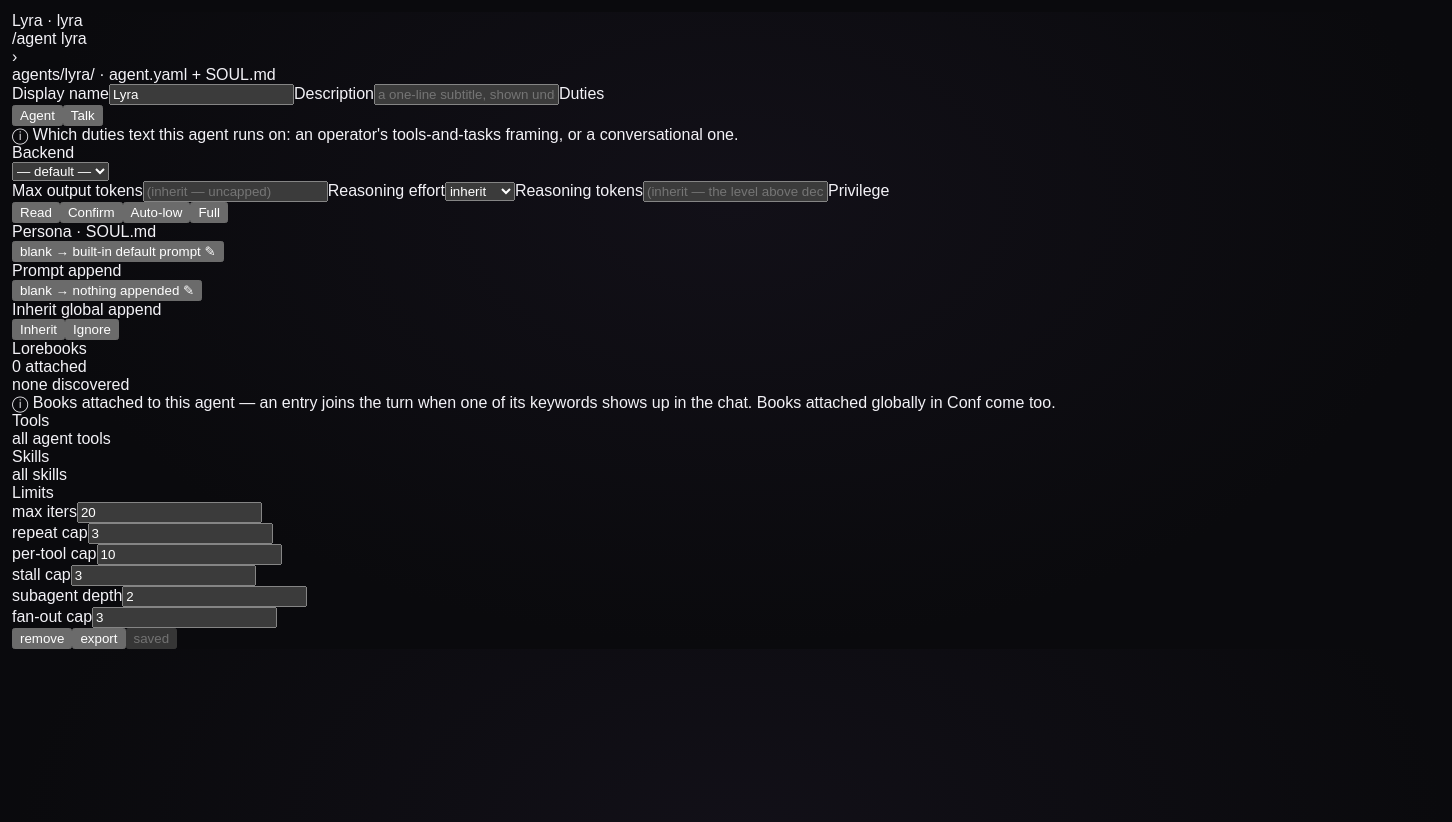
Test case: AgentRow · the card export (§15.3) › a SAVED agent offers `export`, which opens in place onto PNG card / JSON card
Click the button "export". click: (99, 638)
box: [72,628,126,649]
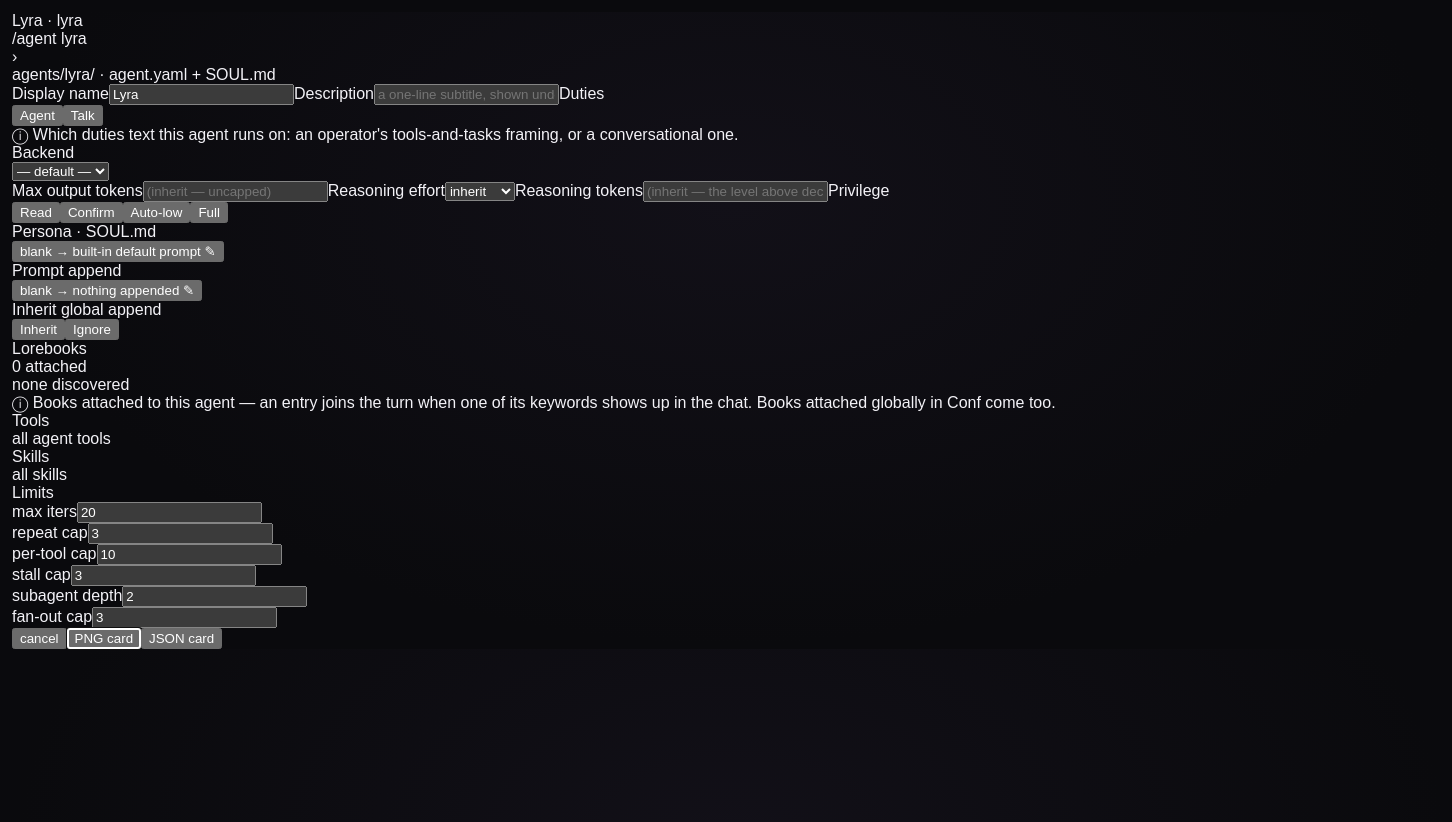
Result: the button "remove" is gone
Click the button "cancel". click: (39, 638)
box: [12,628,66,649]
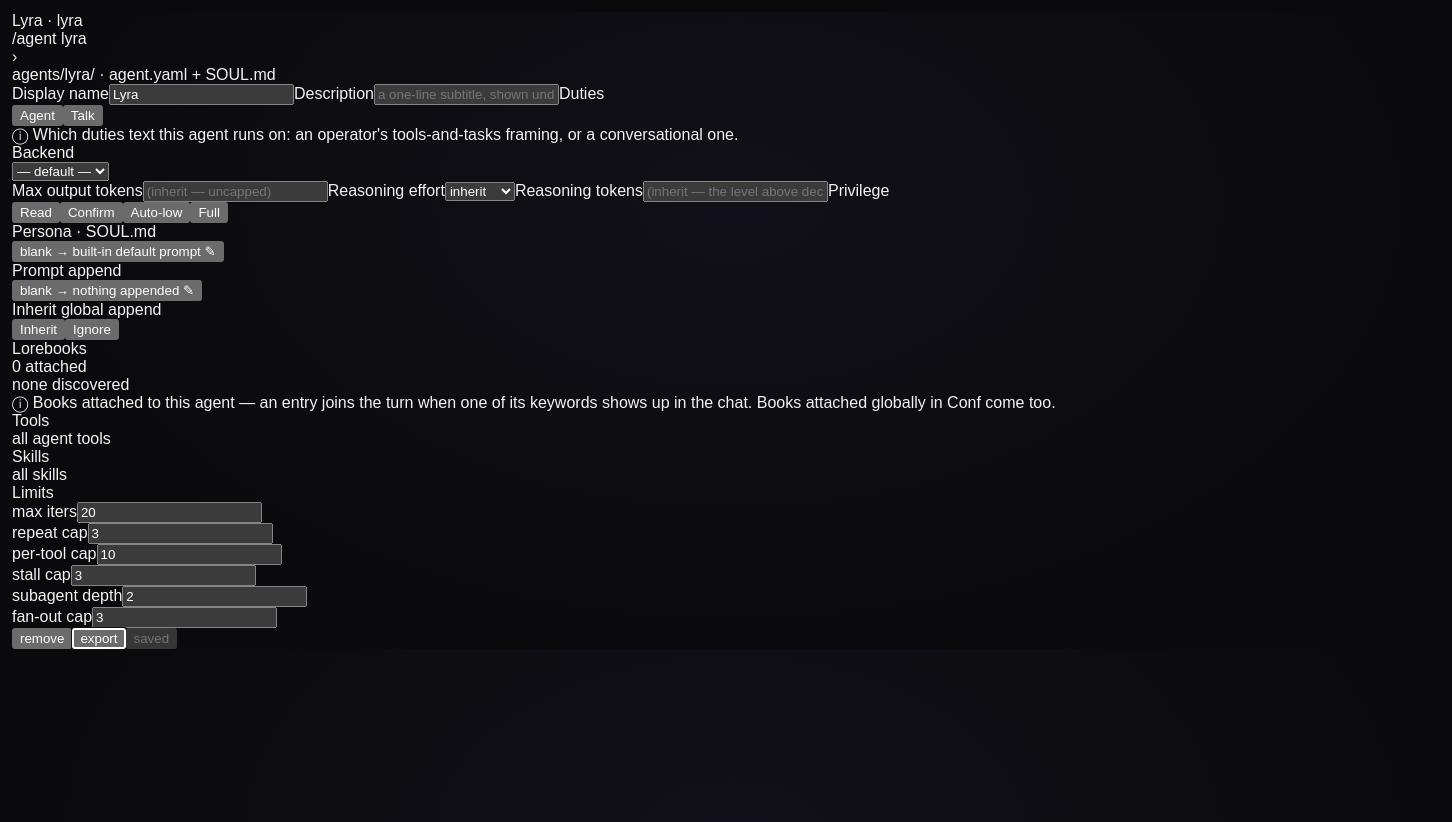
Result: the button "remove" is shown at [12,628,72,649]
Result: the button "PNG card" is gone
